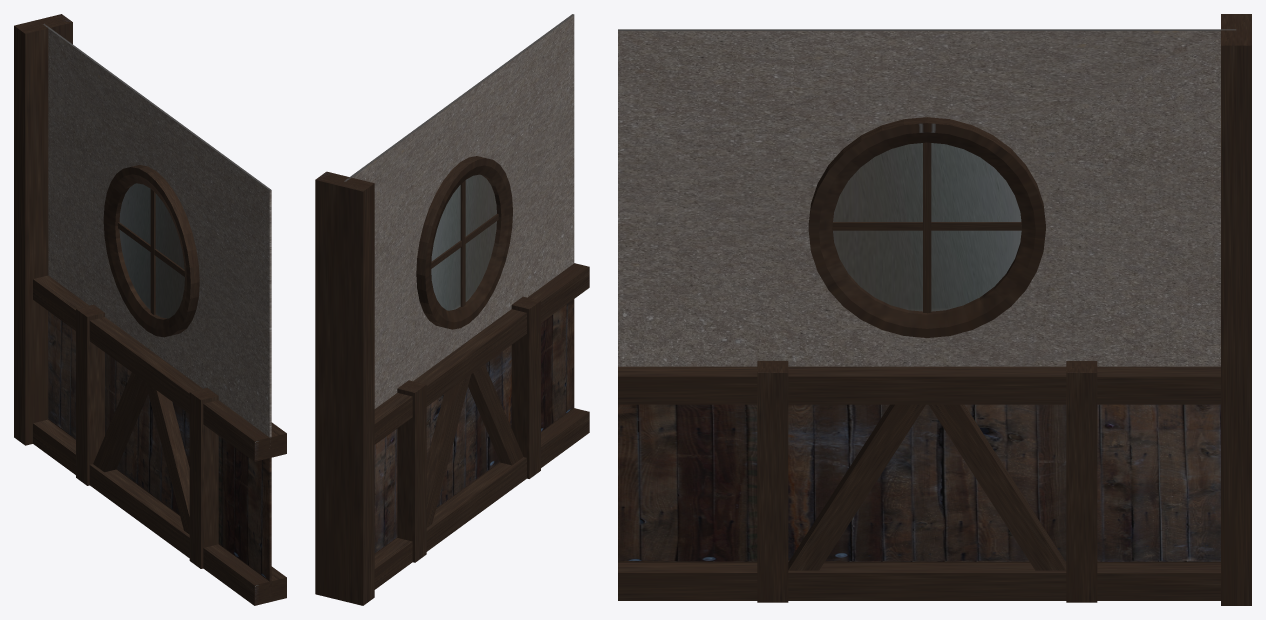
The model's file is OutdoorArchitecture_BasicWall03_Window02_RightEdge_BShortt.fbx.
The picture shows the model from 3 angles, left to right: view 1: azimuth 30°, elevation 25°; view 2: azimuth 150°, elevation 25°; view 3: azimuth 270°, elevation 25°; orthographic projection. The views are drawn at different scales.
Visible parts, largest first — view 1: OutdoorArchitecture_BasicWall03_Window02_RightEdge_BShortt; view 2: OutdoorArchitecture_BasicWall03_Window02_RightEdge_BShortt; view 3: OutdoorArchitecture_BasicWall03_Window02_RightEdge_BShortt.
Boxes of the visible parts, x1=… form: OutdoorArchitecture_BasicWall03_Window02_RightEdge_BShortt: x1=14, y1=14, x2=286, y2=605; OutdoorArchitecture_BasicWall03_Window02_RightEdge_BShortt: x1=315, y1=14, x2=589, y2=605; OutdoorArchitecture_BasicWall03_Window02_RightEdge_BShortt: x1=618, y1=14, x2=1251, y2=605.
Bounding box in the file's own units: 36.37 × 300 × 308.
